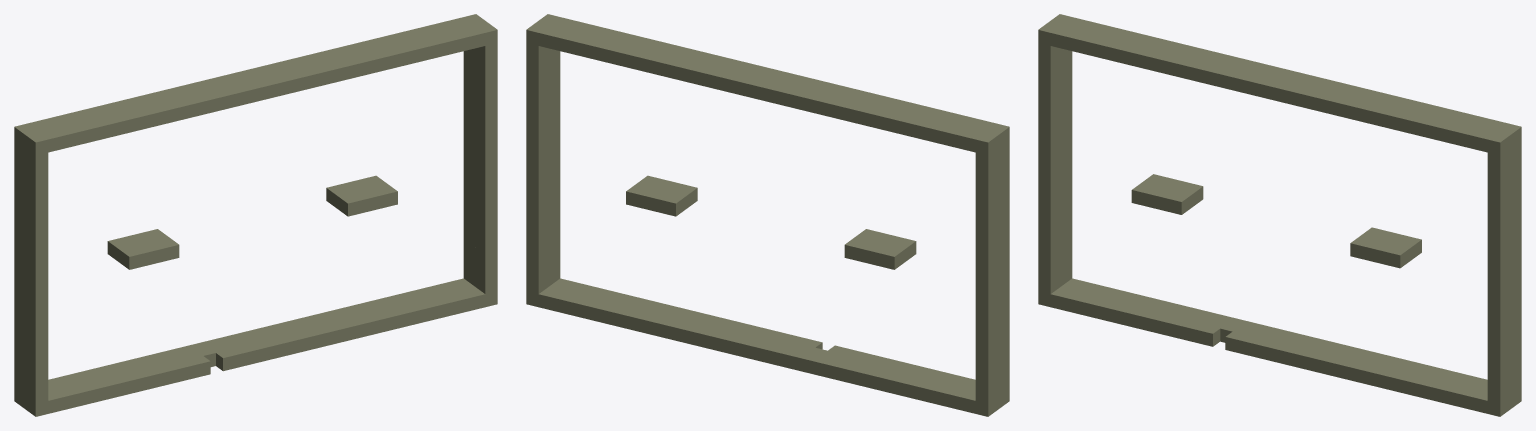
The model's file is Platforms.obj.
3 views of the same model, side by side, from view 1: azimuth 30°, elevation 25°; view 2: azimuth 150°, elevation 25°; view 3: azimuth 330°, elevation 25° (orthographic).
Parts seen in each view (by area): view 1: Cube (115), Cube (110), Cube (111), Cube (5), Cube (47), Cube (55), Cube (56), Cube (58), Cube (66), Cube (36), Cube (105), Cube (106) (+103 smaller); view 2: Cube (115), Cube (110), Cube (111), Cube (5), Cube (47), Cube (55), Cube (56), Cube (58), Cube (66), Cube (36), Cube (105), Cube (106) (+103 smaller); view 3: Cube (117), Cube (114), Cube (32), Cube (8), Cube (37), Cube (39), Cube (42), Cube (49), Cube (71), Cube (40), Cube (41), Cube (44) (+103 smaller).
Boxes of the visible parts, box(x1,y1,x2,y2) form: Cube (115): box(14, 123, 48, 155); Cube (110): box(107, 238, 141, 269); Cube (111): box(326, 184, 360, 216); Cube (5): box(202, 339, 235, 371); Cube (47): box(14, 205, 48, 233); Cube (55): box(463, 239, 497, 267); Cube (56): box(463, 213, 497, 241); Cube (58): box(463, 174, 497, 202); Cube (66): box(463, 82, 497, 111); Cube (36): box(14, 388, 48, 416); Cube (105): box(14, 375, 48, 403); Cube (106): box(14, 362, 48, 390); Cube (115): box(975, 123, 1009, 155); Cube (110): box(882, 238, 916, 269); Cube (111): box(663, 184, 697, 216); Cube (5): box(788, 339, 822, 371); Cube (47): box(975, 205, 1009, 233); Cube (55): box(526, 239, 560, 267); Cube (56): box(526, 213, 560, 241); Cube (58): box(526, 174, 560, 202); Cube (66): box(526, 82, 560, 111); Cube (36): box(975, 388, 1009, 416); Cube (105): box(975, 375, 1009, 403); Cube (106): box(975, 362, 1009, 390); Cube (117): box(1487, 123, 1521, 155); Cube (114): box(1387, 236, 1421, 268); Cube (32): box(1169, 183, 1203, 214); Cube (8): box(1200, 315, 1233, 346); Cube (37): box(1038, 239, 1072, 267); Cube (39): box(1038, 213, 1072, 241); Cube (42): box(1038, 174, 1072, 202); Cube (49): box(1038, 82, 1072, 111); Cube (71): box(1487, 205, 1521, 233); Cube (40): box(1038, 200, 1072, 228); Cube (41): box(1038, 187, 1072, 215); Cube (44): box(1038, 161, 1072, 189).
Bounding box in the file's own units: 74 × 42 × 6.
